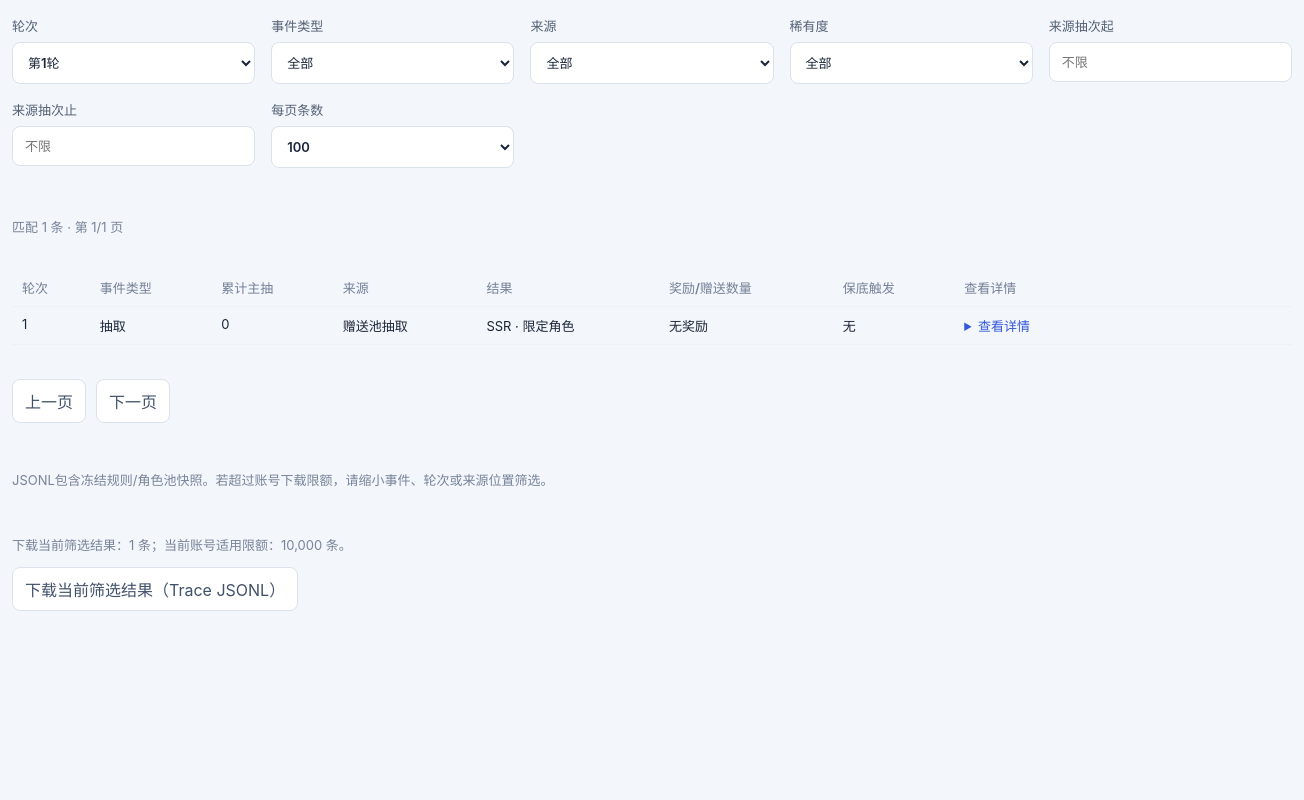
Test: keeps the main table at eight columns and opens precise draw details
The image size is (1304, 800).
Click the heading "查看详情" at (1004, 326), box [978,318,1030,334]
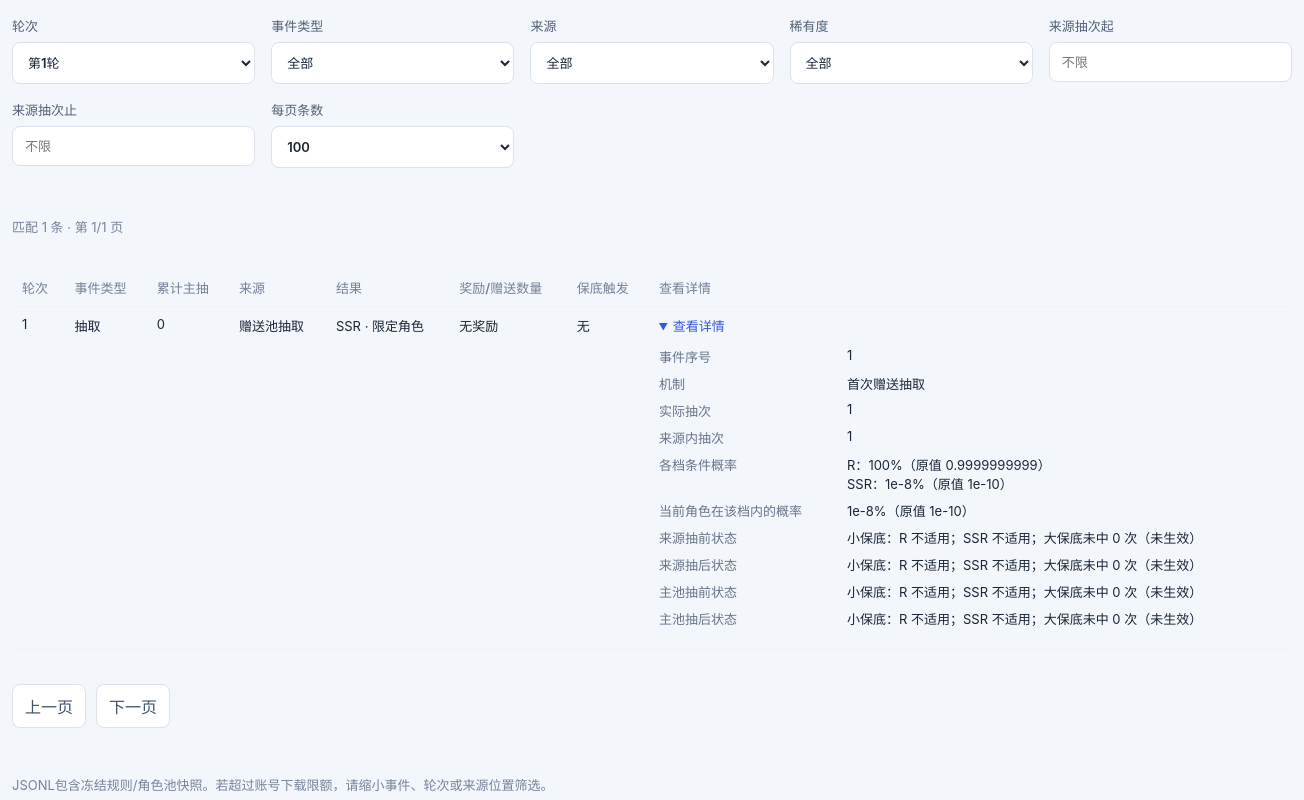
Check: the text "SSR：1e-8%（原值 1e-10）" is shown, box [847,476,1013,492]
Check: the text "首次赠送抽取" is shown, box [847,376,925,392]
Check: the text "主池抽前状态" is shown, box [659,584,737,600]
